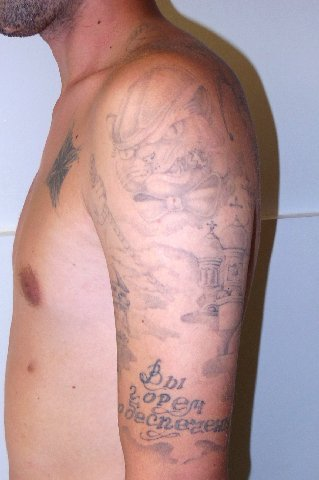tatu3_bukva: (117, 358, 239, 448)
tatu8_kot: (91, 74, 239, 218)
